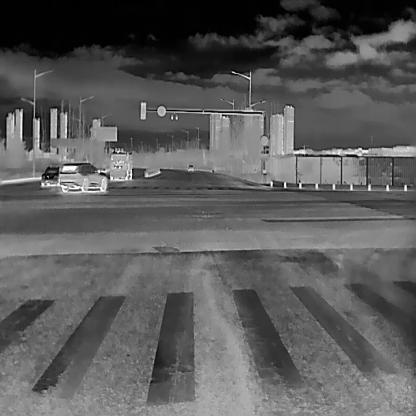car: (59, 162, 108, 192), (40, 164, 59, 187), (186, 162, 194, 171)
truck: (108, 150, 132, 180)
